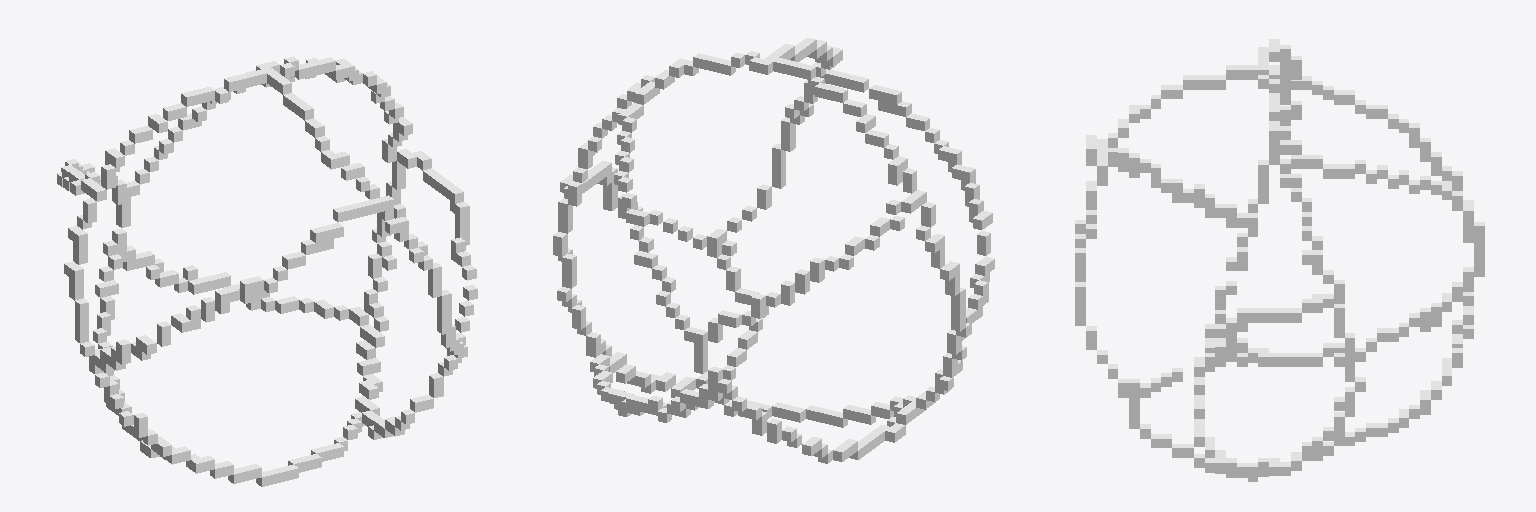
Rendered from barrier2.obj.
3 renders of one model, left to right at view 1: azimuth 30°, elevation 25°; view 2: azimuth 150°, elevation 25°; view 3: azimuth 270°, elevation 25°, orthographic.
Parts seen in each view (by area): view 1: object 1; view 2: object 1; view 3: object 1.
Boxes of the visible parts, box(x1,y1,x2,y2) form: object 1: box(57, 56, 477, 486); object 1: box(553, 38, 994, 463); object 1: box(1075, 39, 1484, 481).
Size of the model in its own units: 4 by 3.9 by 3.8.